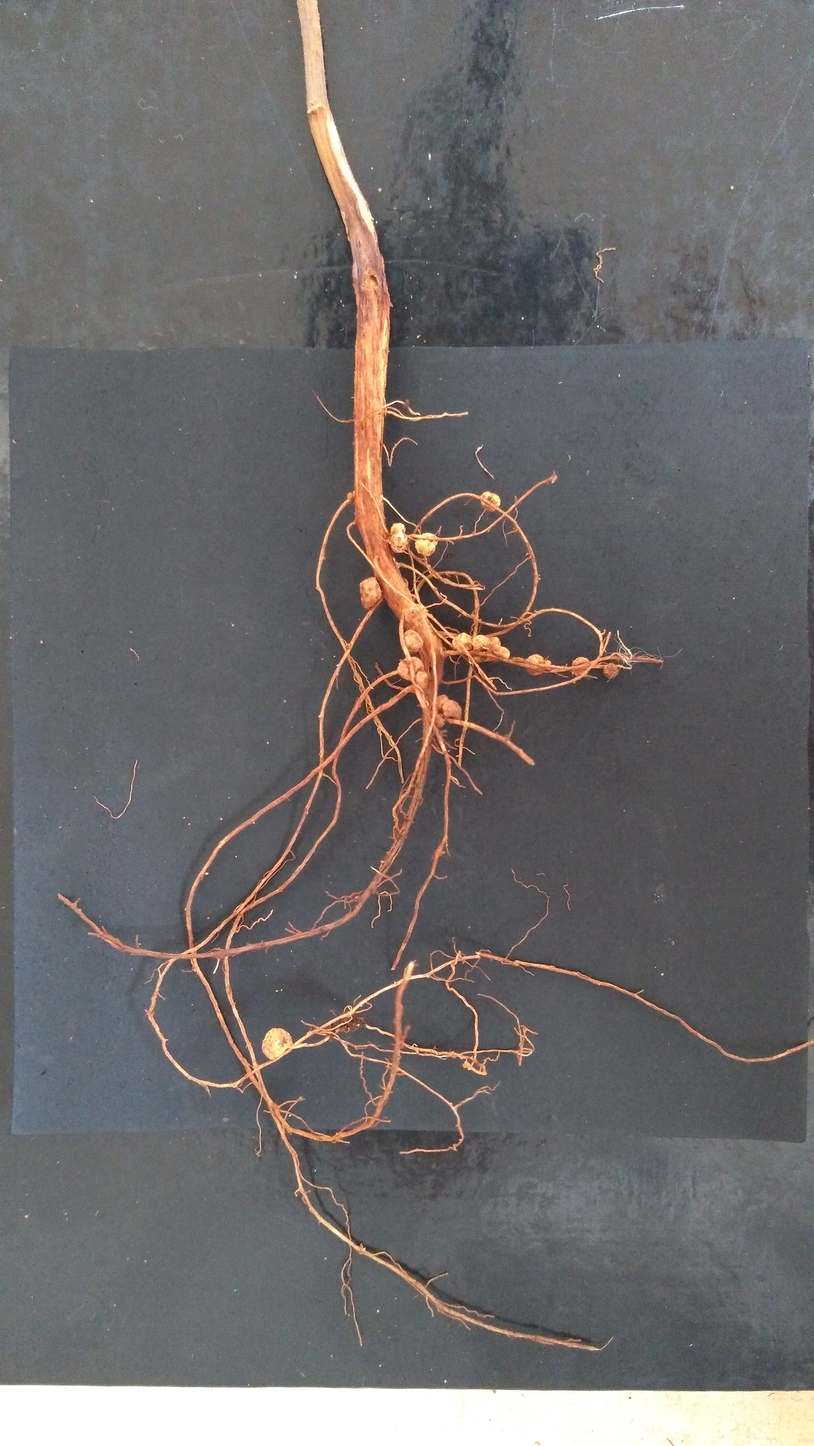nodule: (398, 657, 429, 690), (262, 1027, 292, 1060), (359, 577, 384, 610), (330, 1011, 367, 1032), (430, 694, 449, 728), (524, 654, 552, 676), (401, 629, 423, 655), (489, 637, 510, 664), (414, 533, 438, 556), (472, 635, 490, 664), (390, 523, 407, 552), (442, 699, 462, 721), (480, 491, 501, 511), (452, 632, 473, 651), (571, 656, 589, 676), (602, 662, 619, 679), (347, 491, 354, 499)
